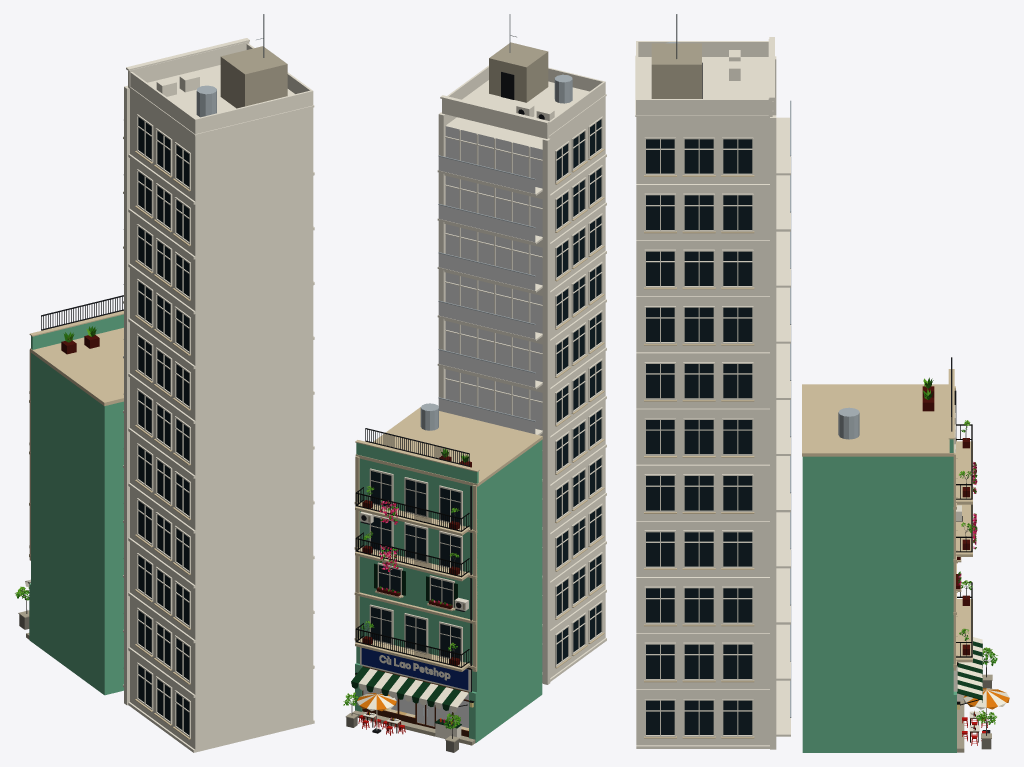
File: PV_StreetShop01_Petshop.fbx
3 views of the same model, side by side, from view 1: azimuth 30°, elevation 25°; view 2: azimuth 150°, elevation 25°; view 3: azimuth 270°, elevation 25° (orthographic). The views are drawn at different scales.
Visible parts, largest first — view 1: PV_StreetShop01_Petshop_LOD0; view 2: PV_StreetShop01_Petshop_LOD0; view 3: PV_StreetShop01_Petshop_LOD0.
Part boxes in pixels (x1,y1,x2,y2): PV_StreetShop01_Petshop_LOD0: [15, 14, 314, 752]; PV_StreetShop01_Petshop_LOD0: [343, 14, 606, 752]; PV_StreetShop01_Petshop_LOD0: [635, 14, 1009, 752].
Size of what is drawn, in the model's own units: 8.46 by 41 by 19.35.
Materials: 2 (1 with a texture image).
